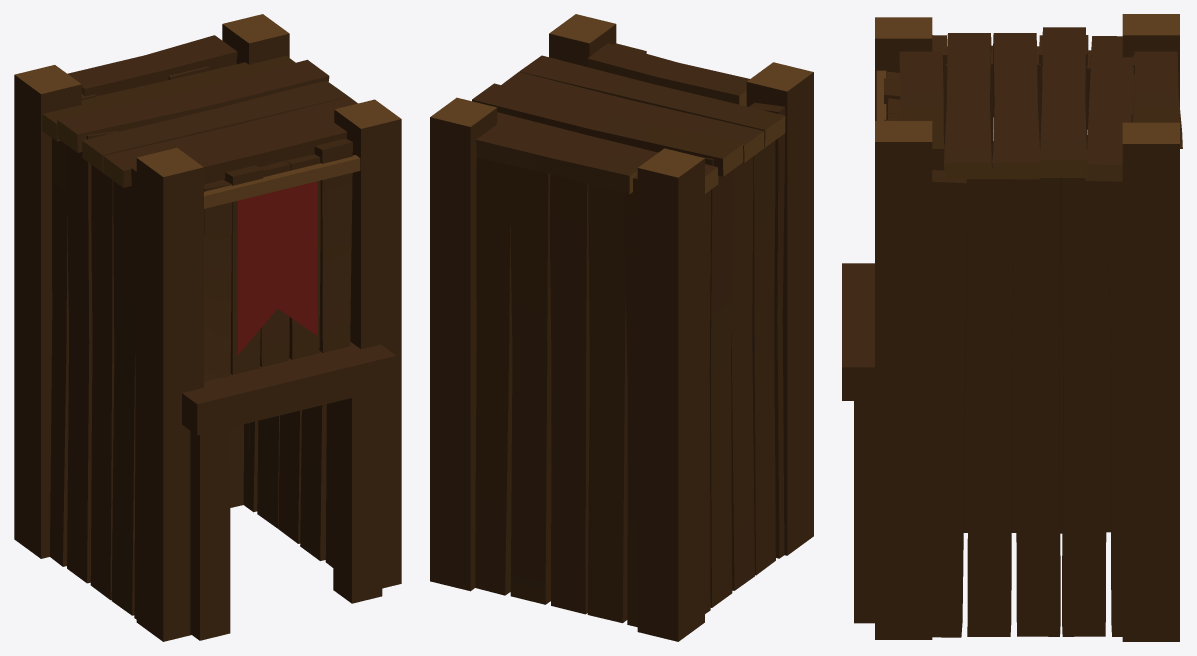
Rendered from WatchTower_FirstAge_Level1.obj.
3 views of the same model, side by side, from view 1: azimuth 30°, elevation 25°; view 2: azimuth 150°, elevation 25°; view 3: azimuth 270°, elevation 25° (orthographic). The views are drawn at different scales.
Parts seen in each view (by area): view 1: WatchTower_FirstAge_Level1_Cube.018; view 2: WatchTower_FirstAge_Level1_Cube.018; view 3: WatchTower_FirstAge_Level1_Cube.018.
Part boxes in pixels (x1=…): WatchTower_FirstAge_Level1_Cube.018: x1=14, y1=14, x2=401, y2=641; WatchTower_FirstAge_Level1_Cube.018: x1=430, y1=14, x2=813, y2=641; WatchTower_FirstAge_Level1_Cube.018: x1=842, y1=14, x2=1182, y2=641.
Bounding box in the file's own units: 0.473 × 0.8373 × 0.5193.
